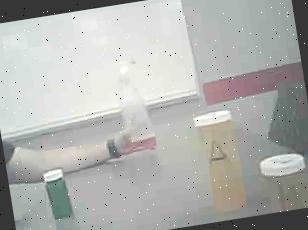Bottle A: (188, 102, 254, 223)
Bottle B: (252, 140, 308, 214)
Bottle C: (36, 164, 84, 226)
hazard: (104, 45, 176, 158)
